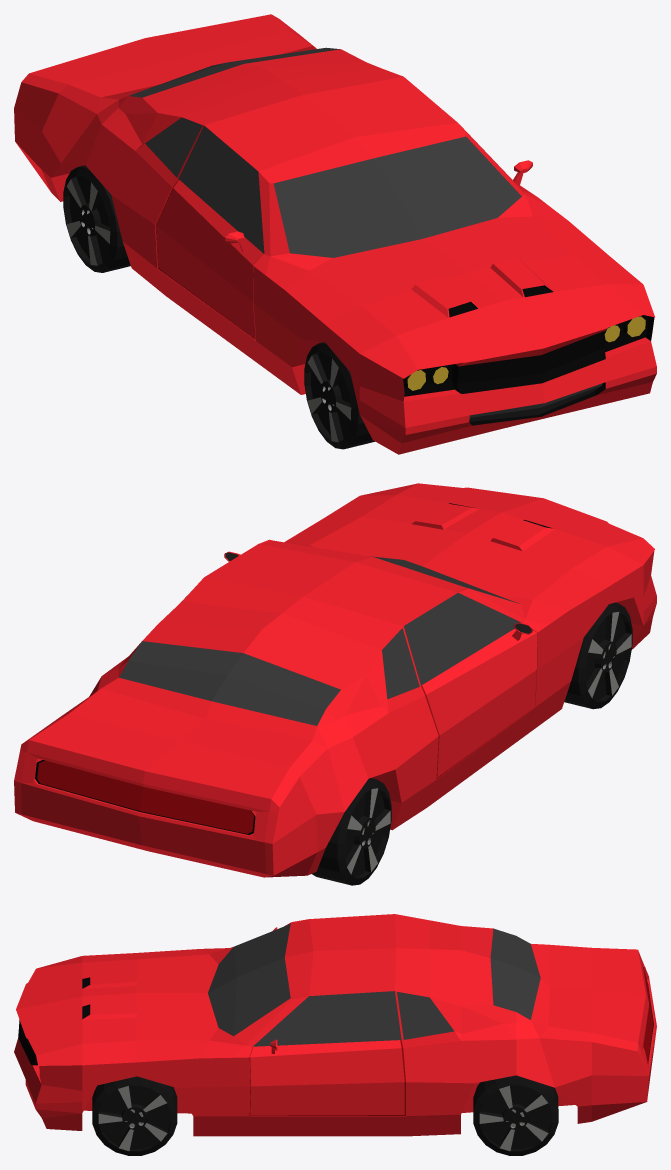
The model's file is Dodge.fbx.
3 views of the same model, one above another, from view 1: azimuth 30°, elevation 25°; view 2: azimuth 150°, elevation 25°; view 3: azimuth 270°, elevation 25° (orthographic). The views are drawn at different scales.
Parts seen in each view (by area): view 1: Cylinder; view 2: Cylinder; view 3: Cylinder.
Boxes of the visible parts, box(x1,y1,x2,y2) form: Cylinder: box(14, 14, 656, 454); Cylinder: box(14, 483, 656, 885); Cylinder: box(14, 914, 656, 1155).
Bounding box in the file's own units: 123 × 75.05 × 282.
